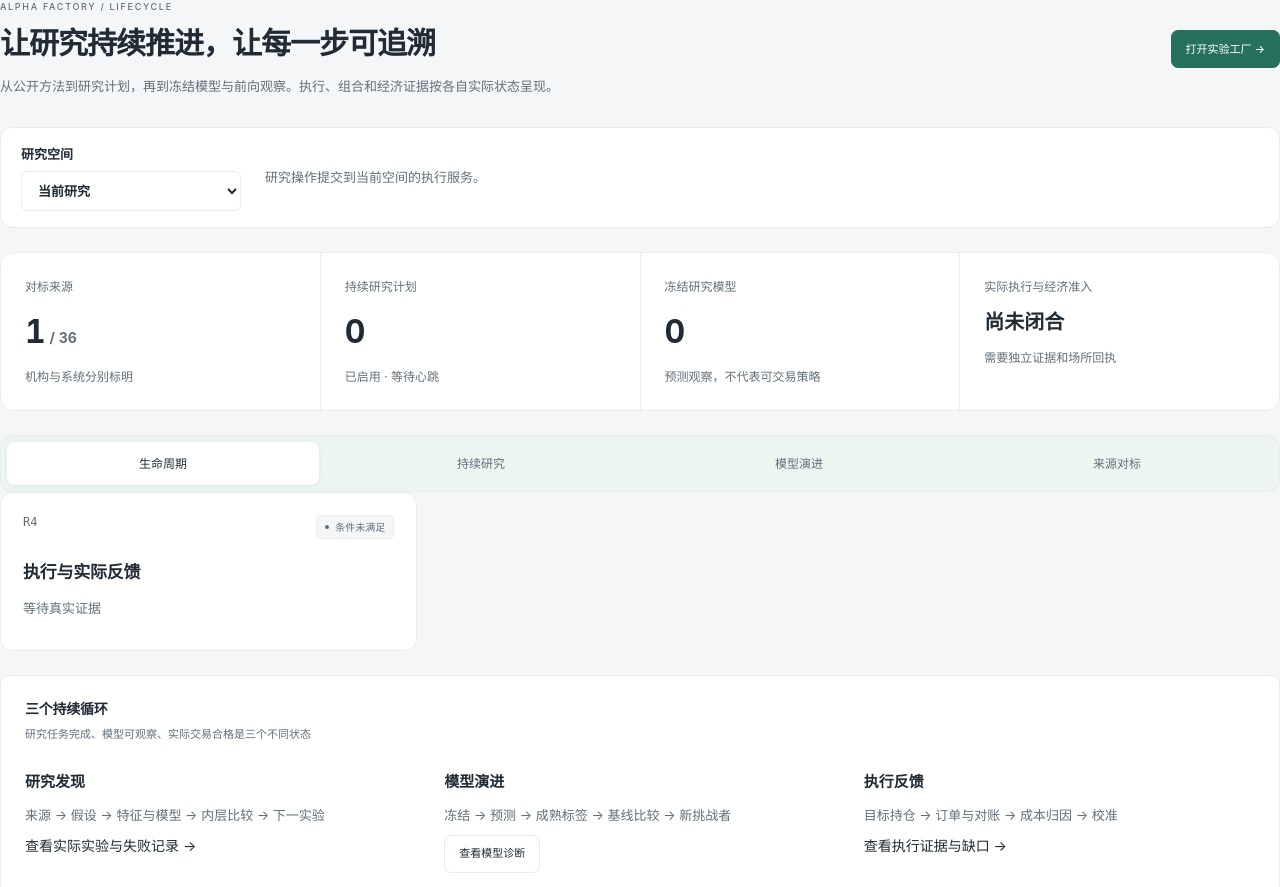
Test: starts a bounded campaign and does not invent an active model
Expected: the text "等待真实证据" is shown, [23,600,101,616]
Click the tab "持续研究": (481,464) [325,442,637,485]
(page scrolled)
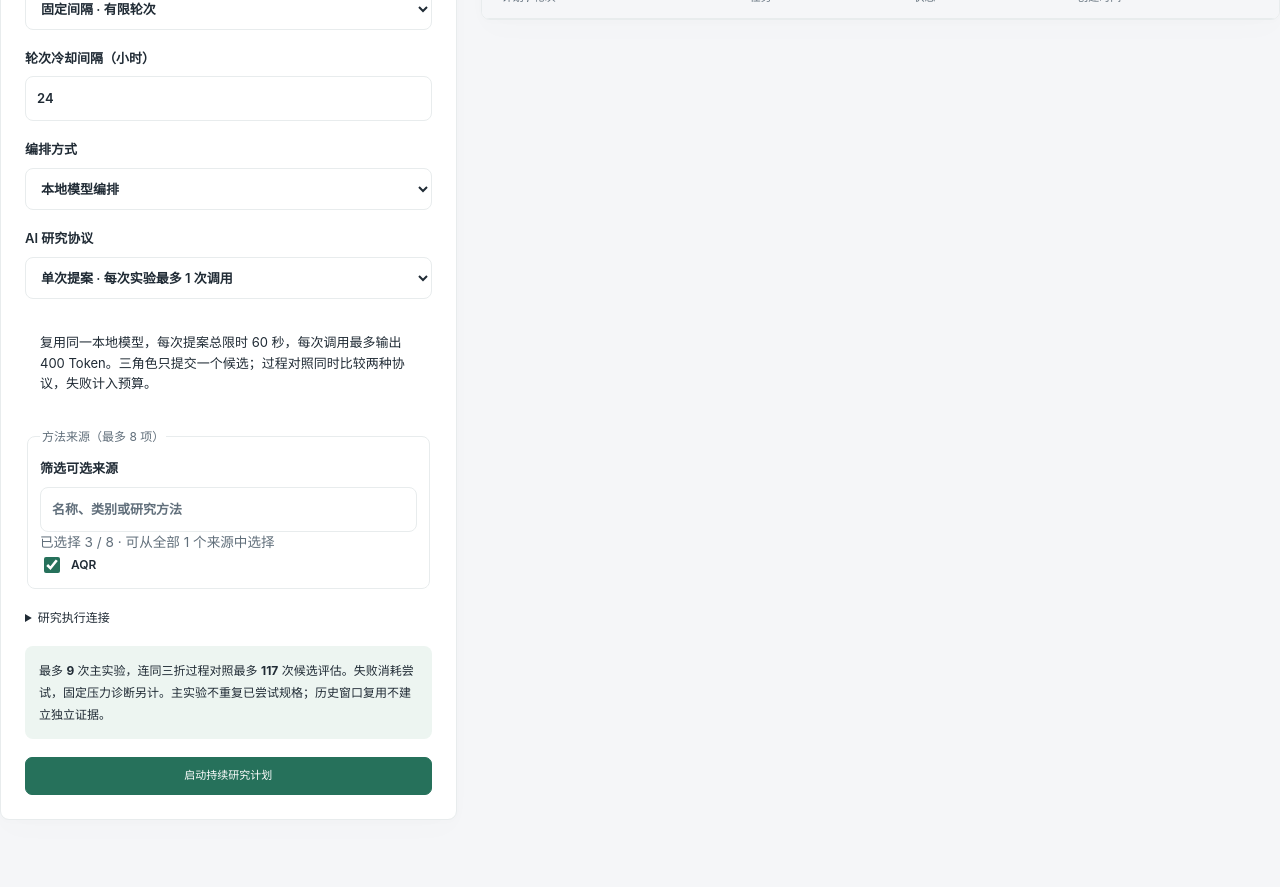
Click the button "启动持续研究计划": (228,776) [25,757,432,795]
(page scrolled)
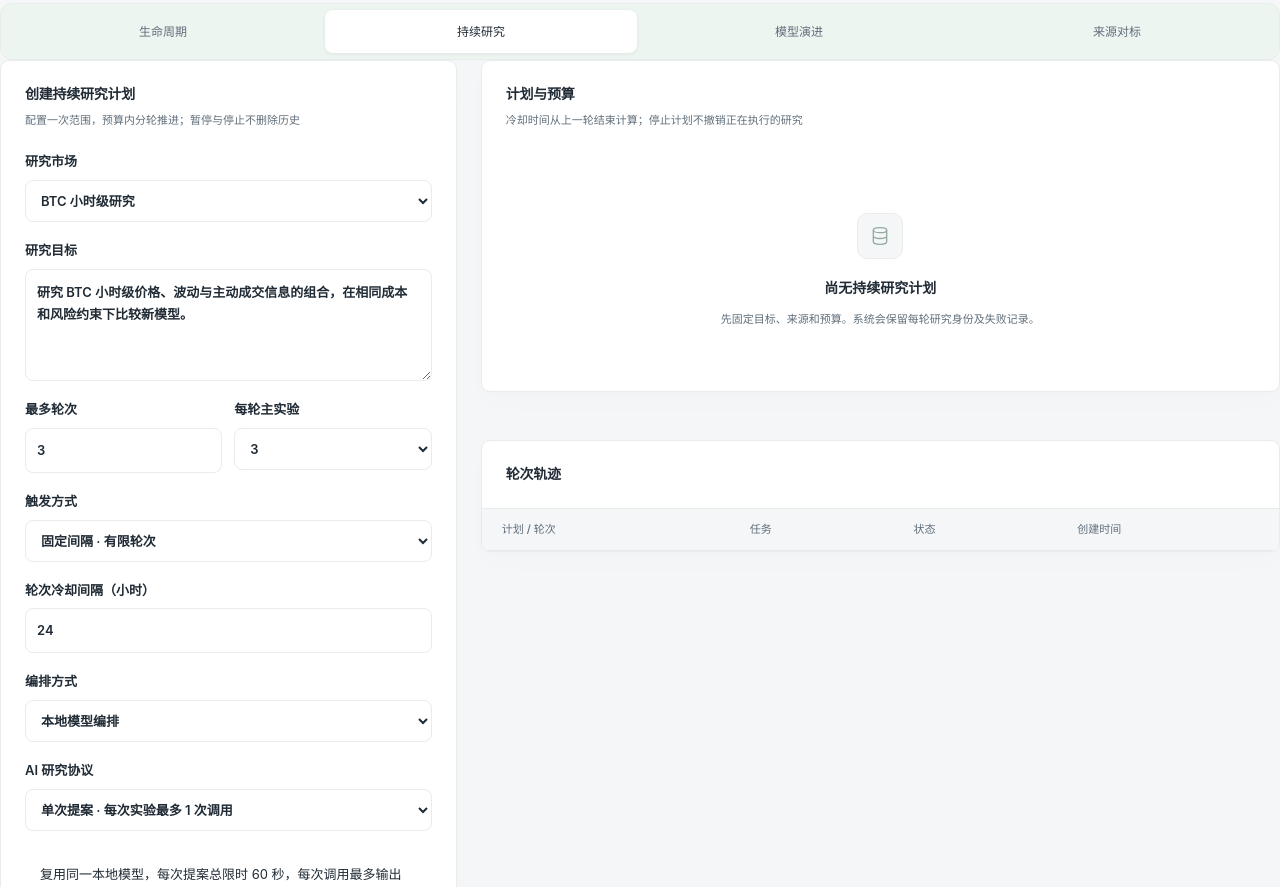
Replace the text in the number field labelled "最多轮次" with "12": (124,450) [25,428,222,473]
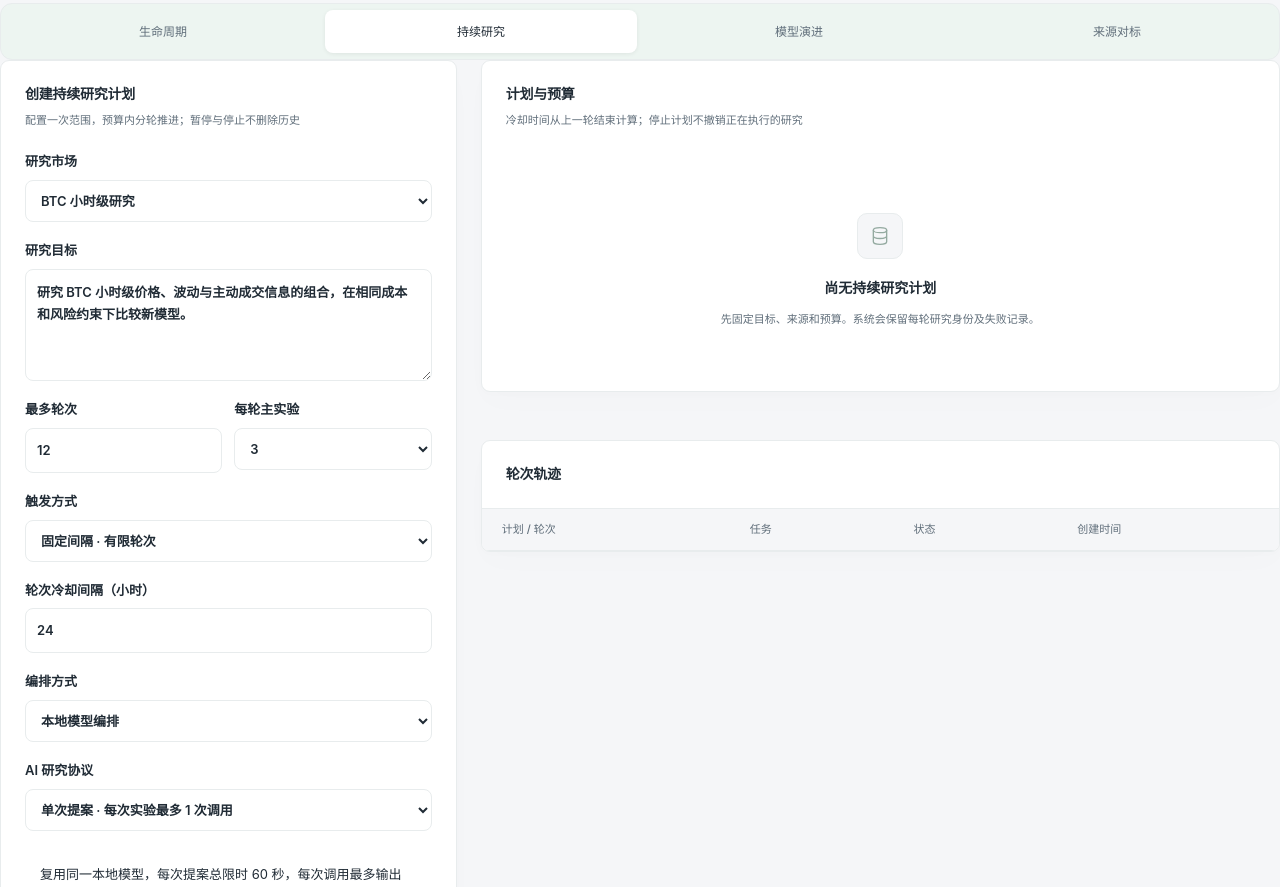
Select "18" in the dropdown labelled "每轮主实验": (333,449) [234,428,432,470]
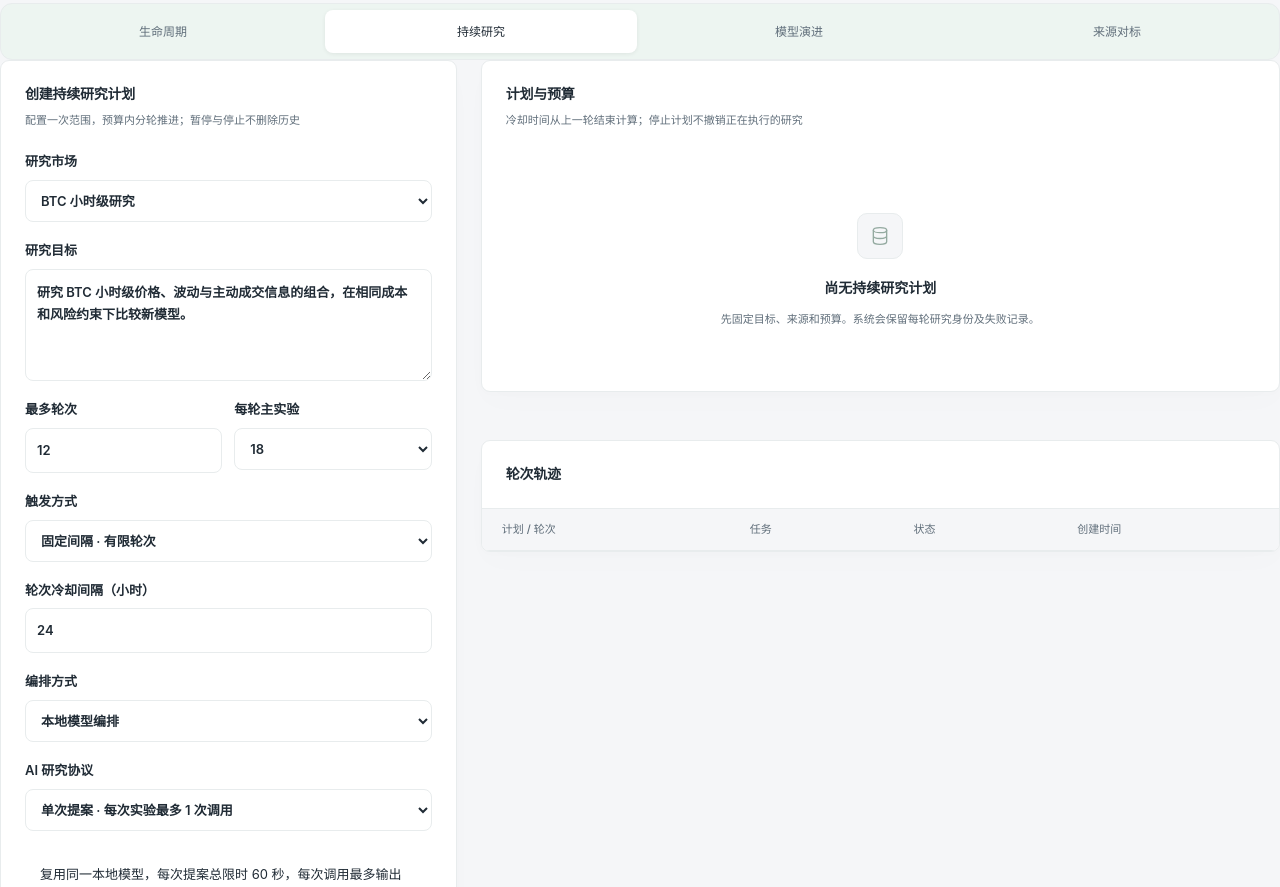
Click the tab "模型演进": (799,32) [643,10,955,53]
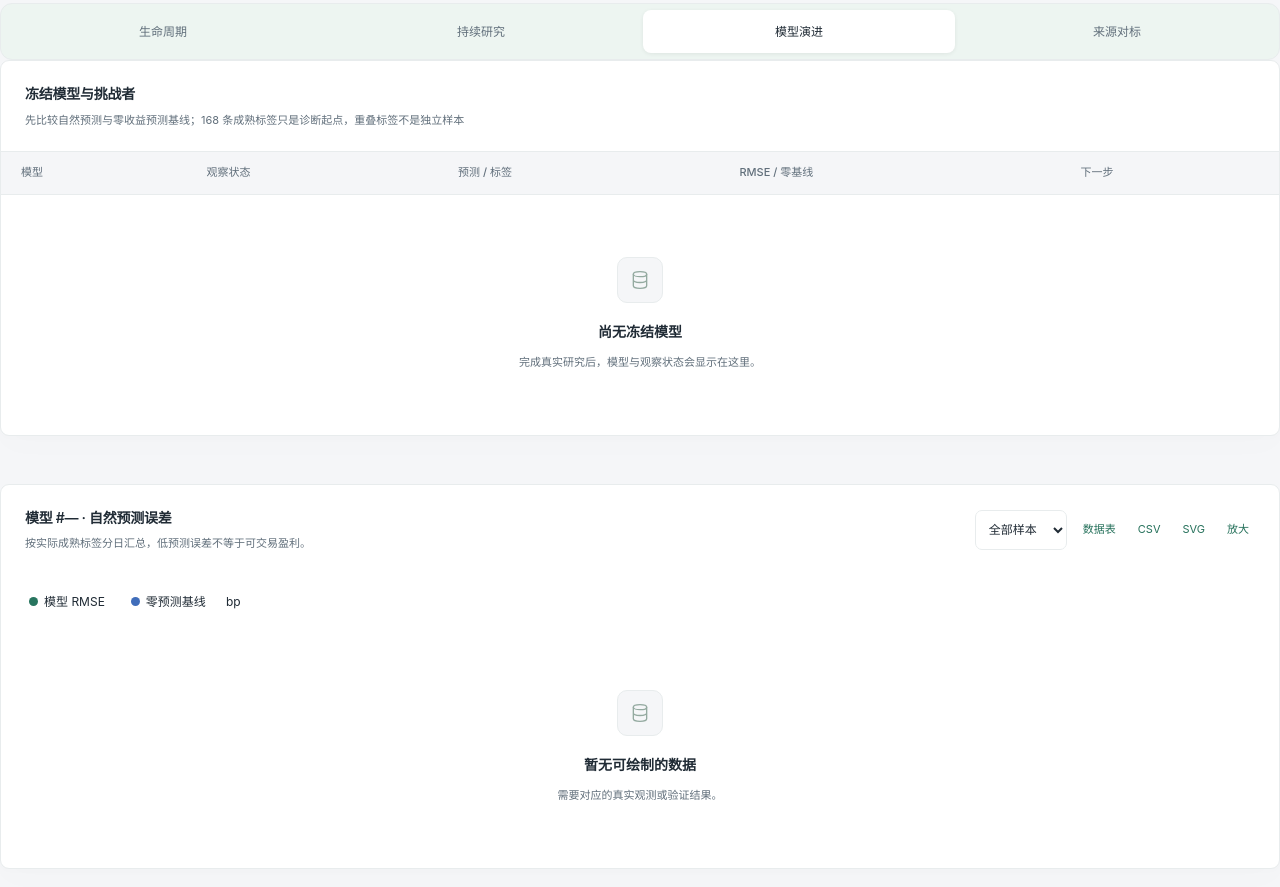
Expected: the heading "尚无冻结模型" is shown, [598,321,682,343]
